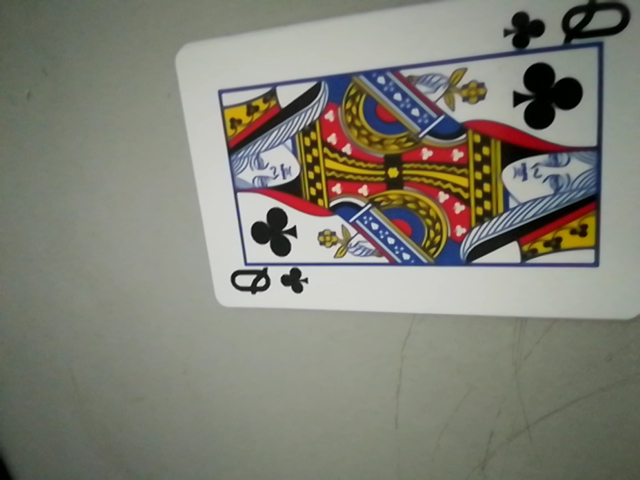mh q: (505, 1, 634, 55), (223, 259, 310, 305)
